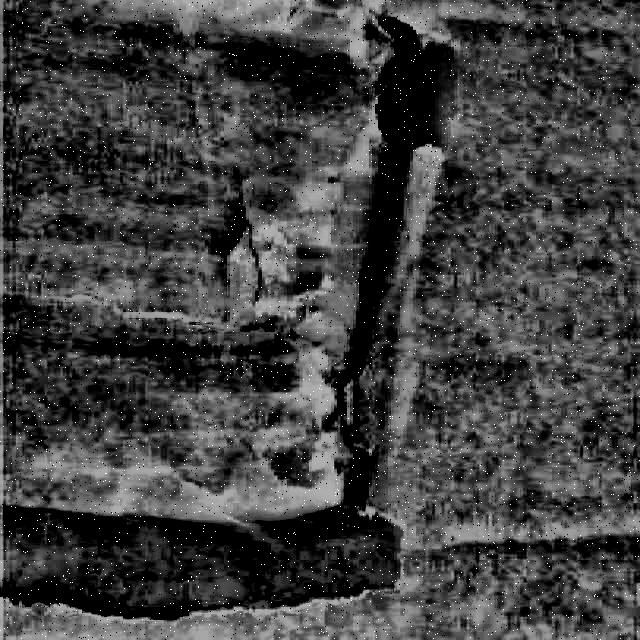box: (0, 0, 640, 640)
hole: (342, 9, 471, 172)
